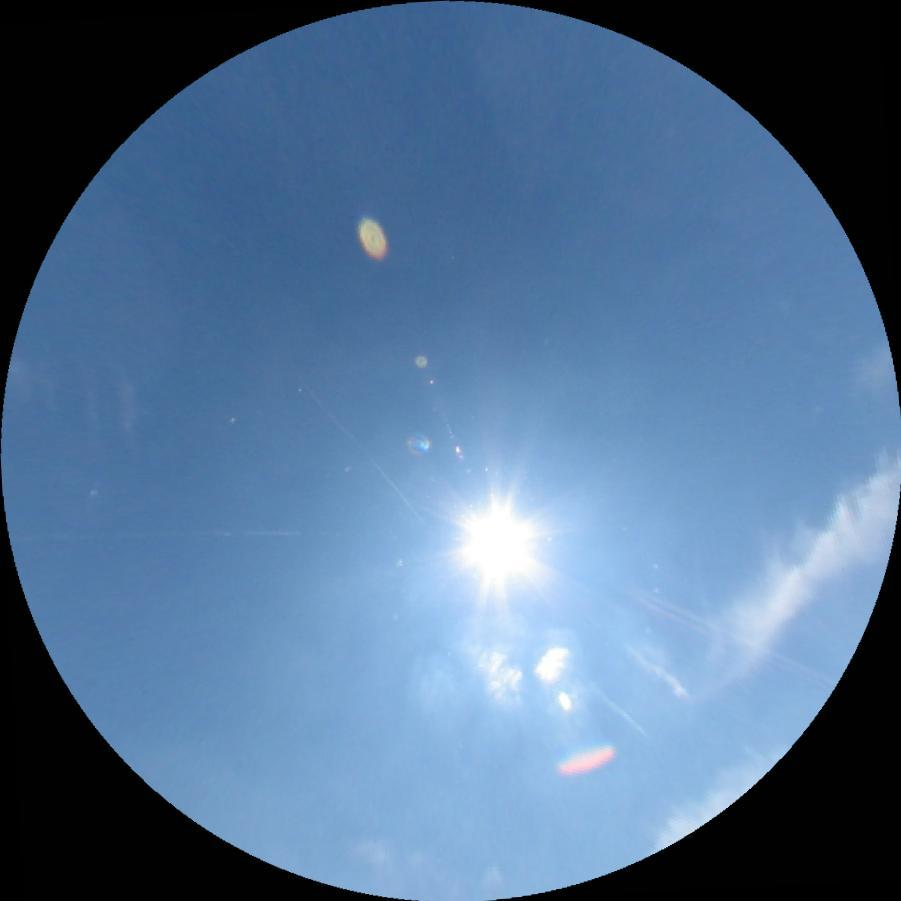contrail old: (304, 383, 424, 523), (587, 680, 648, 738)
parasite: (644, 592, 836, 685), (8, 524, 326, 542), (639, 598, 709, 636)
sun: (444, 489, 548, 594)
